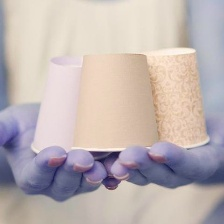paper_cup: (67, 45, 163, 153), (27, 49, 114, 160), (136, 42, 214, 154)
